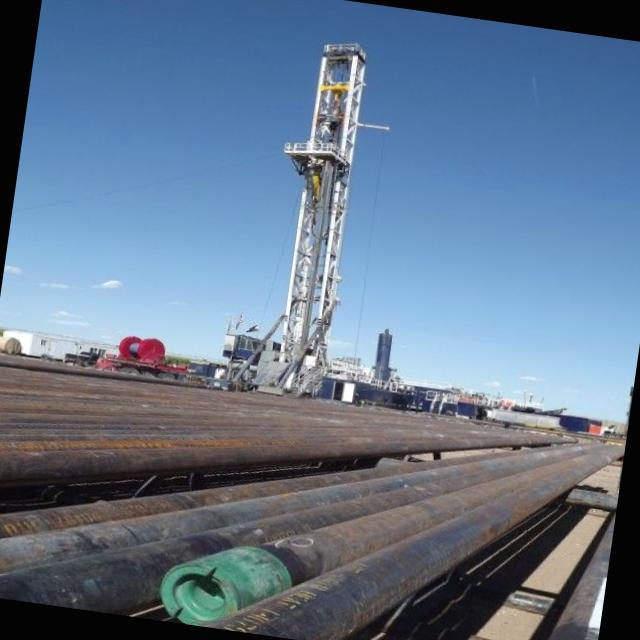gas: (0, 442, 603, 614), (206, 448, 625, 640), (0, 367, 556, 487)
